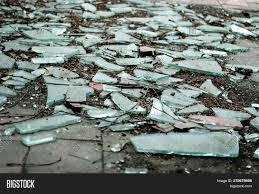glass: (128, 130, 241, 160), (12, 112, 85, 135), (145, 94, 180, 127), (175, 56, 229, 76), (79, 51, 123, 71), (29, 42, 88, 56), (21, 25, 70, 41), (132, 65, 171, 85), (80, 102, 125, 118), (20, 130, 62, 147), (107, 91, 140, 112), (41, 81, 68, 106), (209, 105, 252, 120), (101, 41, 140, 57), (198, 77, 225, 99), (106, 28, 142, 43), (74, 30, 101, 49), (176, 80, 204, 98), (44, 64, 78, 78), (178, 102, 211, 116), (106, 3, 138, 17), (66, 84, 89, 103), (91, 69, 119, 84), (218, 41, 249, 54), (11, 67, 41, 79), (108, 120, 139, 131), (198, 21, 229, 32), (95, 115, 119, 129), (14, 58, 42, 70), (1, 84, 20, 101), (31, 55, 66, 64), (200, 47, 228, 58), (1, 48, 15, 70), (78, 1, 100, 12), (124, 164, 148, 173), (2, 23, 17, 37), (117, 68, 137, 78), (102, 82, 121, 92), (81, 10, 100, 20), (242, 103, 259, 114), (154, 36, 168, 48), (243, 132, 259, 142), (120, 76, 136, 86), (247, 117, 259, 129), (249, 145, 259, 158)
